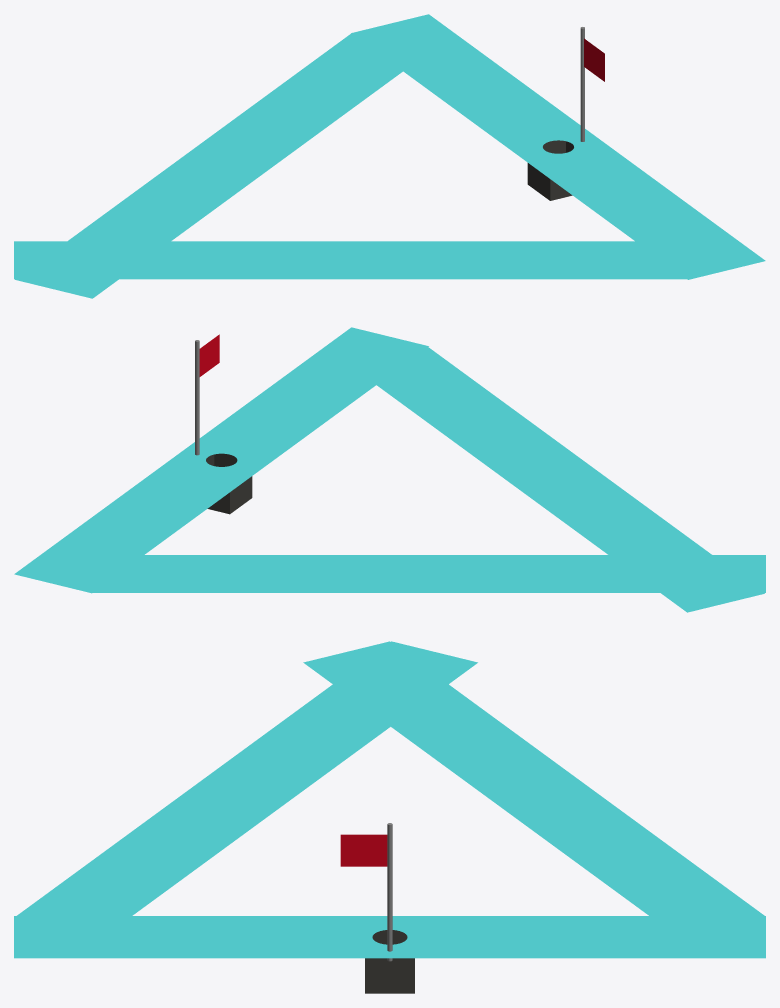
Rendered from Pista3.fbx.
3 renders of one model, top to bottom at view 1: azimuth 30°, elevation 25°; view 2: azimuth 150°, elevation 25°; view 3: azimuth 270°, elevation 25°, orthographic. The views are drawn at different scales.
Parts seen in each view (by area): view 1: Plane, Plane.001, Plane.002, Cube, Plane.003, Cylinder; view 2: Plane, Plane.001, Plane.002, Cube, Plane.003, Cylinder; view 3: Plane, Plane.001, Plane.002, Cube, Plane.003, Cylinder.
Boxes of the visible parts, x1,y1,x2,y2 form: Plane: (351,14,765,279); Plane.001: (14,241,686,279); Plane.002: (15,33,402,298); Cube: (527,140,573,200); Plane.003: (584,38,604,81); Cylinder: (580,27,584,141); Plane: (14,327,428,593); Plane.001: (376,347,764,612); Plane.002: (93,555,765,592); Cube: (206,453,252,514); Plane.003: (199,334,219,376); Cylinder: (195,340,199,455); Plane: (14,916,765,958); Plane.001: (17,641,477,915); Plane.002: (303,641,764,915); Cube: (365,930,414,993); Plane.003: (340,834,387,866); Cylinder: (387,823,392,961).
Size of the model in its own units: 2993 by 758 by 3000.
